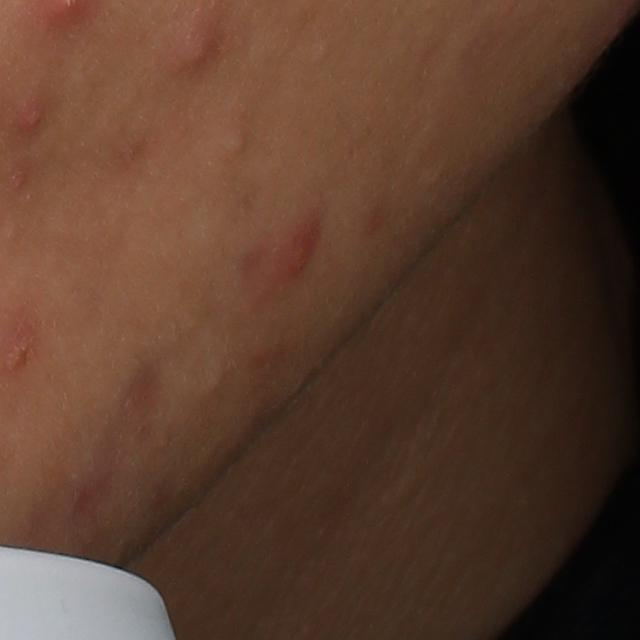comedo: (219, 129, 248, 156)
papule: (159, 15, 235, 83), (262, 220, 325, 294), (19, 87, 51, 135)
